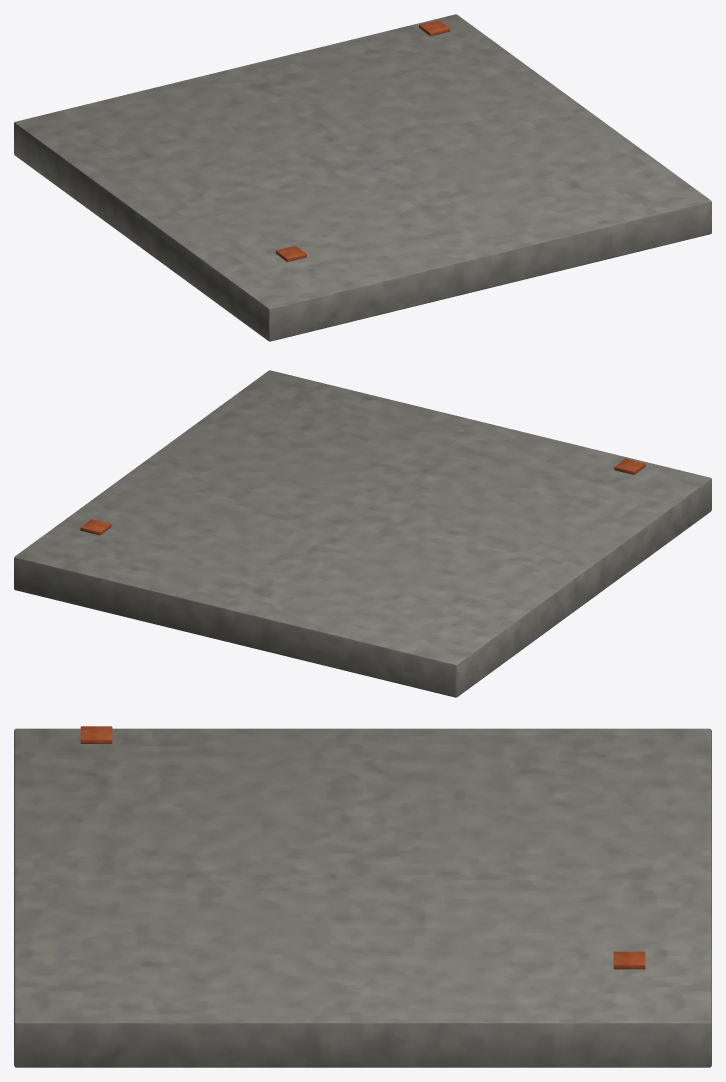
The model's file is PIS-CTP-001_anim.glb.
3 renders of one model, top to bottom at view 1: azimuth 30°, elevation 25°; view 2: azimuth 150°, elevation 25°; view 3: azimuth 270°, elevation 25°, orthographic. The views are drawn at different scales.
Visible parts, largest first — view 1: PIS-CTP-001_anim0; view 2: PIS-CTP-001_anim0; view 3: PIS-CTP-001_anim0.
Boxes of the visible parts, bbox=[...] form: PIS-CTP-001_anim0: bbox=[14, 14, 711, 341]; PIS-CTP-001_anim0: bbox=[14, 370, 711, 697]; PIS-CTP-001_anim0: bbox=[14, 726, 711, 1067].
Bounding box in the file's own units: 1.1 × 0.1315 × 1.1.
3 materials, 3 textured.
